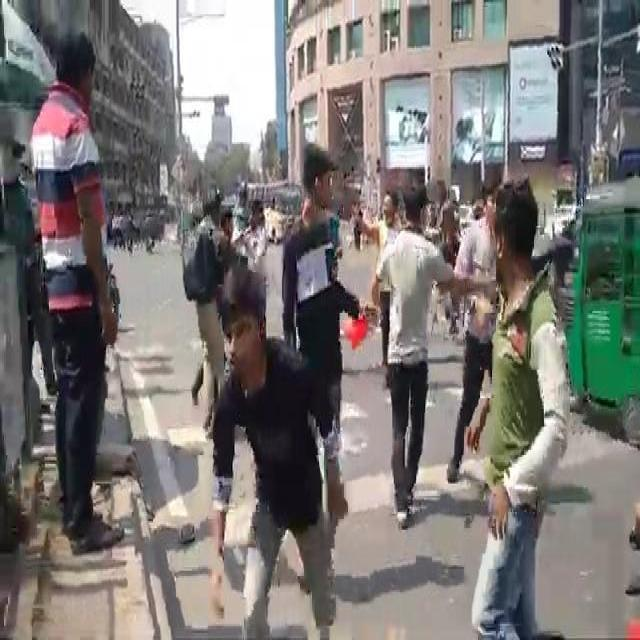fight: (172, 132, 274, 366)
